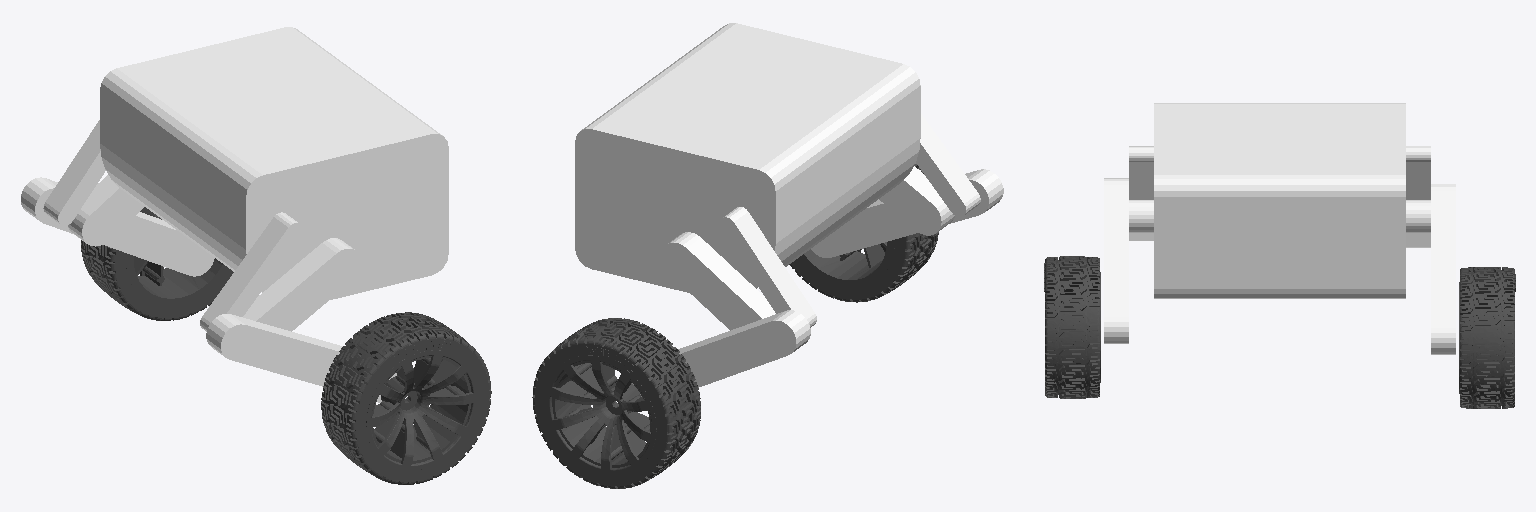
URDF robot description (robot_package):
<?xml version="1.0" encoding="utf-8"?>
<!-- This URDF was automatically created by SolidWorks to URDF Exporter! Originally created by Stephen Brawner (brawner@gmail.com) 
     Commit Version: 1.6.0-4-g7f85cfe  Build Version: 1.6.7995.38578
     For more information, please see http://wiki.ros.org/sw_urdf_exporter -->
<robot
  name="robot_package">
  <link
    name="base_link">
    <inertial>
      <origin
        xyz="0.00176415624798898 -1.26747168353941E-05 0.00107222796480731"
        rpy="0 0 0" />
      <mass
        value="1.37883847656827" />
      <inertia
        ixx="0.00328532735269924"
        ixy="-6.49090742076173E-20"
        ixz="7.56046311875566E-05"
        iyy="0.0022542100299895"
        iyz="1.15566893231935E-19"
        izz="0.00413952696442128" />
    </inertial>
    <visual>
      <origin
        xyz="0 0 0"
        rpy="0 0 0" />
      <geometry>
        <mesh
          filename="package://robot_package/meshes/base_link.STL" />
      </geometry>
      <material
        name="">
        <color
          rgba="1 1 1 1" />
      </material>
    </visual>
    <collision>
      <origin
        xyz="0 0 0"
        rpy="0 0 0" />
      <geometry>
        <mesh
          filename="package://robot_package/meshes/base_link.STL" />
      </geometry>
    </collision>
  </link>
  <link
    name="right_bigcu_leg">
    <inertial>
      <origin
        xyz="0.00749999999999997 -0.0149670430135267 0.0262878322314953"
        rpy="0 0 0" />
      <mass
        value="0.0228623889803847" />
      <inertia
        ixx="1.18988780153825E-05"
        ixy="-3.76595465884763E-22"
        ixz="5.4221581834269E-22"
        iyy="9.04572239479261E-06"
        iyz="4.49460692145783E-06"
        izz="3.71049520735432E-06" />
    </inertial>
    <visual>
      <origin
        xyz="0 0 0"
        rpy="0 0 0" />
      <geometry>
        <mesh
          filename="package://robot_package/meshes/right_bigcu_leg.STL" />
      </geometry>
      <material
        name="">
        <color
          rgba="1 1 1 1" />
      </material>
    </visual>
    <collision>
      <origin
        xyz="0 0 0"
        rpy="0 0 0" />
      <geometry>
        <mesh
          filename="package://robot_package/meshes/right_bigcu_leg.STL" />
      </geometry>
    </collision>
  </link>
  <joint
    name="right_bigcu_joint"
    type="revolute">
    <origin
      xyz="-0.010008 -0.075013 -0.015"
      rpy="1.5708 0 -1.5708" />
    <parent
      link="base_link" />
    <child
      link="right_bigcu_leg" />
    <axis
      xyz="1 0 0" />
    <limit
      lower="-3.1416"
      upper="3.1416"
      effort="1"
      velocity="0.1" />
  </joint>
  <link
    name="right_small_leg">
    <inertial>
      <origin
        xyz="0.00750000000000005 -0.0126038283297361 -0.0248717751766651"
        rpy="0 0 0" />
      <mass
        value="0.0347381889803847" />
      <inertia
        ixx="4.01039993717052E-05"
        ixy="-5.54195475764729E-21"
        ixz="-1.09959336955503E-20"
        iyy="3.1899486062631E-05"
        iyz="-1.52681797572127E-05"
        izz="9.50719539583864E-06" />
    </inertial>
    <visual>
      <origin
        xyz="0 0 0"
        rpy="0 0 0" />
      <geometry>
        <mesh
          filename="package://robot_package/meshes/right_small_leg.STL" />
      </geometry>
      <material
        name="">
        <color
          rgba="1 1 1 1" />
      </material>
    </visual>
    <collision>
      <origin
        xyz="0 0 0"
        rpy="0 0 0" />
      <geometry>
        <mesh
          filename="package://robot_package/meshes/right_small_leg.STL" />
      </geometry>
    </collision>
  </link>
  <joint
    name="right_small_joint"
    type="revolute">
    <origin
      xyz="0.015 -0.029934 0.052576"
      rpy="0 0 0" />
    <parent
      link="right_bigcu_leg" />
    <child
      link="right_small_leg" />
    <axis
      xyz="-1 0 0" />
    <limit
      lower="-3.1416"
      upper="3.1416"
      effort="1"
      velocity="0.1" />
  </joint>
  <link
    name="right_wheel">
    <inertial>
      <origin
        xyz="0.0193204607357672 8.73369237444632E-06 2.26059734588675E-07"
        rpy="0 0 0" />
      <mass
        value="0.0552945430162286" />
      <inertia
        ixx="6.1811204803467E-05"
        ixy="-7.13777804548091E-09"
        ixz="-1.65648094774103E-10"
        iyy="3.71518408048408E-05"
        iyz="4.93824557180512E-10"
        izz="3.71666117121649E-05" />
    </inertial>
    <visual>
      <origin
        xyz="0 0 0"
        rpy="0 0 0" />
      <geometry>
        <mesh
          filename="package://robot_package/meshes/right_wheel.STL" />
      </geometry>
      <material
        name="">
        <color
          rgba="0.368627450980392 0.368627450980392 0.368627450980392 1" />
      </material>
    </visual>
    <collision>
      <origin
        xyz="0 0 0"
        rpy="0 0 0" />
      <geometry>
        <mesh
          filename="package://robot_package/meshes/right_wheel.STL" />
      </geometry>
    </collision>
  </link>
  <joint
    name="right_wheel_joint"
    type="continuous">
    <origin
      xyz="0.015 -0.035225 -0.06951"
      rpy="0 0 0" />
    <parent
      link="right_small_leg" />
    <child
      link="right_wheel" />
    <axis
      xyz="-1 0 0" />
  </joint>
  <link
    name="left_bigcu_leg">
    <inertial>
      <origin
        xyz="0.00750000000000002 -0.0165848469876302 -0.0252983270276296"
        rpy="0 0 0" />
      <mass
        value="0.0228623889803847" />
      <inertia
        ixx="1.18988780153825E-05"
        ixy="4.1661618907952E-21"
        ixz="6.36572098446656E-21"
        iyy="8.46261008171085E-06"
        iyz="-4.79296443496432E-06"
        izz="4.29360752043607E-06" />
    </inertial>
    <visual>
      <origin
        xyz="0 0 0"
        rpy="0 0 0" />
      <geometry>
        <mesh
          filename="package://robot_package/meshes/left_bigcu_leg.STL" />
      </geometry>
      <material
        name="">
        <color
          rgba="1 1 1 1" />
      </material>
    </visual>
    <collision>
      <origin
        xyz="0 0 0"
        rpy="0 0 0" />
      <geometry>
        <mesh
          filename="package://robot_package/meshes/left_bigcu_leg.STL" />
      </geometry>
    </collision>
  </link>
  <joint
    name="left_bigcu_joint"
    type="revolute">
    <origin
      xyz="-0.010008 0.074987 -0.015"
      rpy="1.5708 0 1.5708" />
    <parent
      link="base_link" />
    <child
      link="left_bigcu_leg" />
    <axis
      xyz="-1 0 0" />
    <limit
      lower="-3.1416"
      upper="3.1416"
      effort="1"
      velocity="0.1" />
  </joint>
  <link
    name="left_small_leg">
    <inertial>
      <origin
        xyz="0.00749999999999988 -0.0139096591145459 0.0241657417084904"
        rpy="0 0 0" />
      <mass
        value="0.0347381889803847" />
      <inertia
        ixx="4.01039993717052E-05"
        ixy="7.59363985836795E-22"
        ixz="-1.39193827331608E-21"
        iyy="3.0213198018132E-05"
        iyz="1.6371731666806E-05"
        izz="1.11934834403377E-05" />
    </inertial>
    <visual>
      <origin
        xyz="0 0 0"
        rpy="0 0 0" />
      <geometry>
        <mesh
          filename="package://robot_package/meshes/left_small_leg.STL" />
      </geometry>
      <material
        name="">
        <color
          rgba="1 1 1 1" />
      </material>
    </visual>
    <collision>
      <origin
        xyz="0 0 0"
        rpy="0 0 0" />
      <geometry>
        <mesh
          filename="package://robot_package/meshes/left_small_leg.STL" />
      </geometry>
    </collision>
  </link>
  <joint
    name="left_small_joint"
    type="revolute">
    <origin
      xyz="0.015 -0.03317 -0.050597"
      rpy="0 0 0" />
    <parent
      link="left_bigcu_leg" />
    <child
      link="left_small_leg" />
    <axis
      xyz="-1 0 0" />
    <limit
      lower="-3.1416"
      upper="3.1416"
      effort="1"
      velocity="0.1" />
  </joint>
  <link
    name="left_wheel">
    <inertial>
      <origin
        xyz="0.0193204607364665 8.58322072139206E-06 -1.62987178685403E-06"
        rpy="0 0 0" />
      <mass
        value="0.055294543579253" />
      <inertia
        ixx="6.18112049274775E-05"
        ixy="-7.01064500980445E-09"
        ixz="1.35072358926914E-09"
        iyy="3.71527088187312E-05"
        iyz="3.50868638050075E-09"
        izz="3.71657438121288E-05" />
    </inertial>
    <visual>
      <origin
        xyz="0 0 0"
        rpy="0 0 0" />
      <geometry>
        <mesh
          filename="package://robot_package/meshes/left_wheel.STL" />
      </geometry>
      <material
        name="">
        <color
          rgba="0.368627450980392 0.368627450980392 0.368627450980392 1" />
      </material>
    </visual>
    <collision>
      <origin
        xyz="0 0 0"
        rpy="0 0 0" />
      <geometry>
        <mesh
          filename="package://robot_package/meshes/left_wheel.STL" />
      </geometry>
    </collision>
  </link>
  <joint
    name="left_wheel_joint"
    type="continuous">
    <origin
      xyz="0.015 -0.038874 0.067537"
      rpy="0 0 0" />
    <parent
      link="left_small_leg" />
    <child
      link="left_wheel" />
    <axis
      xyz="1 0 0" />
  </joint>
  <link
    name="right_bigxi_leg">
    <inertial>
      <origin
        xyz="0.00749999999999997 -0.023263207044797 0.0212384838910622"
        rpy="0 0 0" />
      <mass
        value="0.0106280972450962" />
      <inertia
        ixx="4.54553070701038E-06"
        ixy="-3.05445182551049E-22"
        ixz="1.16352907022757E-22"
        iyy="2.27347805684658E-06"
        iyz="2.17761804134102E-06"
        izz="2.67060629685491E-06" />
    </inertial>
    <visual>
      <origin
        xyz="0 0 0"
        rpy="0 0 0" />
      <geometry>
        <mesh
          filename="package://robot_package/meshes/right_bigxi_leg.STL" />
      </geometry>
      <material
        name="">
        <color
          rgba="1 1 1 1" />
      </material>
    </visual>
    <collision>
      <origin
        xyz="0 0 0"
        rpy="0 0 0" />
      <geometry>
        <mesh
          filename="package://robot_package/meshes/right_bigxi_leg.STL" />
      </geometry>
    </collision>
  </link>
  <joint
    name="right_bigxi_joint"
    type="revolute">
    <origin
      xyz="-0.039874 -0.075013 0.011609"
      rpy="1.5708 0 -1.5708" />
    <parent
      link="base_link" />
    <child
      link="right_bigxi_leg" />
    <axis
      xyz="1 0 0" />
    <limit
      lower="-3.1416"
      upper="3.1416"
      effort="1"
      velocity="0.1" />
  </joint>
  <link
    name="left_bigxi_leg">
    <inertial>
      <origin
        xyz="0.00750000000000003 -0.0243621068444674 -0.0199684188181927"
        rpy="0 0 0" />
      <mass
        value="0.0106280972450962" />
      <inertia
        ixx="4.54553070701039E-06"
        ixy="1.62336392240699E-21"
        ixz="1.14358864602654E-21"
        iyy="2.04281154202811E-06"
        iyz="-2.14411032968378E-06"
        izz="2.90127281167338E-06" />
    </inertial>
    <visual>
      <origin
        xyz="0 0 0"
        rpy="0 0 0" />
      <geometry>
        <mesh
          filename="package://robot_package/meshes/left_bigxi_leg.STL" />
      </geometry>
      <material
        name="">
        <color
          rgba="1 1 1 1" />
      </material>
    </visual>
    <collision>
      <origin
        xyz="0 0 0"
        rpy="0 0 0" />
      <geometry>
        <mesh
          filename="package://robot_package/meshes/left_bigxi_leg.STL" />
      </geometry>
    </collision>
  </link>
  <joint
    name="left_bigxi_joint"
    type="revolute">
    <origin
      xyz="-0.039874 0.074987 0.011609"
      rpy="1.5708 0 1.5708" />
    <parent
      link="base_link" />
    <child
      link="left_bigxi_leg" />
    <axis
      xyz="-1 0 0" />
    <limit
      lower="-3.1416"
      upper="3.1416"
      effort="1"
      velocity="0.1" />
  </joint>
</robot>

--- Render facts (derived) ---
Views: 3 orthographic renders of the robot side by side, from view 1: azimuth 30°, elevation 25°; view 2: azimuth 150°, elevation 25°; view 3: azimuth 270°, elevation 25°.
Robot: robot_package — 9 links, 8 joints (6 revolute, 2 continuous); root link base_link; default pose: every joint at zero.
Visible links, largest first — view 1: base_link, right_wheel, left_wheel, right_small_leg, right_bigcu_leg, left_small_leg, right_bigxi_leg, left_bigxi_leg, left_bigcu_leg; view 2: base_link, left_wheel, right_wheel, left_bigcu_leg, left_small_leg, left_bigxi_leg, right_small_leg, right_bigxi_leg, right_bigcu_leg; view 3: base_link, right_wheel, left_wheel, left_small_leg, right_small_leg, right_bigxi_leg, left_bigxi_leg, left_bigcu_leg, right_bigcu_leg.
Boxes of the visible links, x1,y1,x2,y2 form: base_link: (100,27,448,299); right_wheel: (321,312,491,484); left_wheel: (81,207,233,320); right_small_leg: (206,314,396,402); right_bigcu_leg: (243,238,361,331); left_small_leg: (21,177,214,276); right_bigxi_leg: (200,212,302,331); left_bigxi_leg: (43,120,105,225); left_bigcu_leg: (68,175,144,246); base_link: (575,23,920,292); left_wheel: (532,318,700,488); right_wheel: (789,164,938,302); left_bigcu_leg: (661,232,775,330); left_small_leg: (632,310,810,396); left_bigxi_leg: (719,207,816,327); right_small_leg: (811,169,1003,257); right_bigxi_leg: (916,114,980,216); right_bigcu_leg: (879,166,954,235); base_link: (1154,103,1405,298); right_wheel: (1044,256,1100,398); left_wheel: (1459,267,1515,408); left_small_leg: (1431,184,1455,354); right_small_leg: (1104,178,1128,343); right_bigxi_leg: (1129,146,1153,199); left_bigxi_leg: (1406,146,1430,199); left_bigcu_leg: (1406,200,1430,247); right_bigcu_leg: (1129,200,1153,240).
Size in the robot's own frame: 0.1522 by 0.2803 by 0.1696 metres.
Meshes: 9 distinct files referenced, 9 mesh visuals loaded (9 binary STL).
